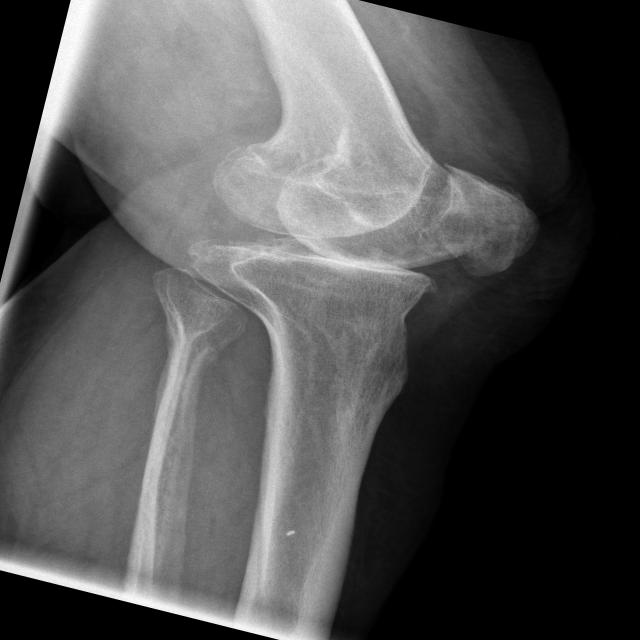Knee: (172, 104, 550, 406)
